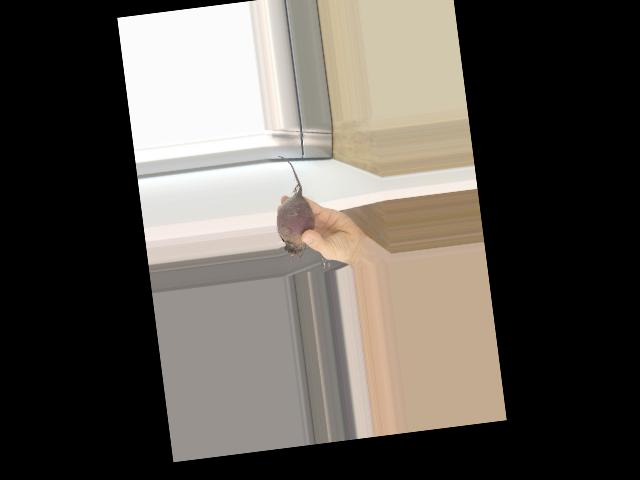beet: (267, 152, 318, 260)
